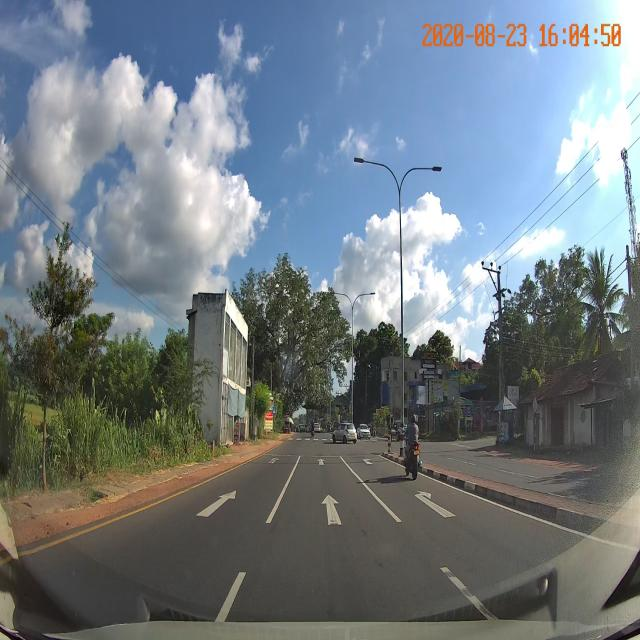diamond: (251, 479, 418, 546)
